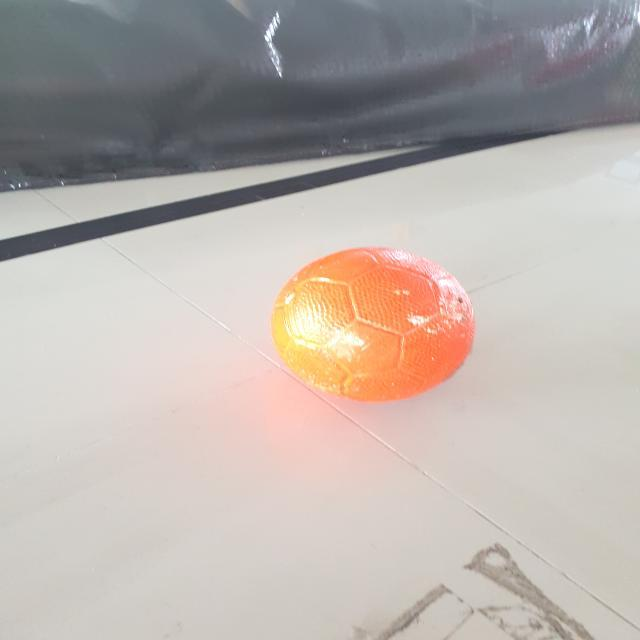bola: (260, 244, 485, 406)
